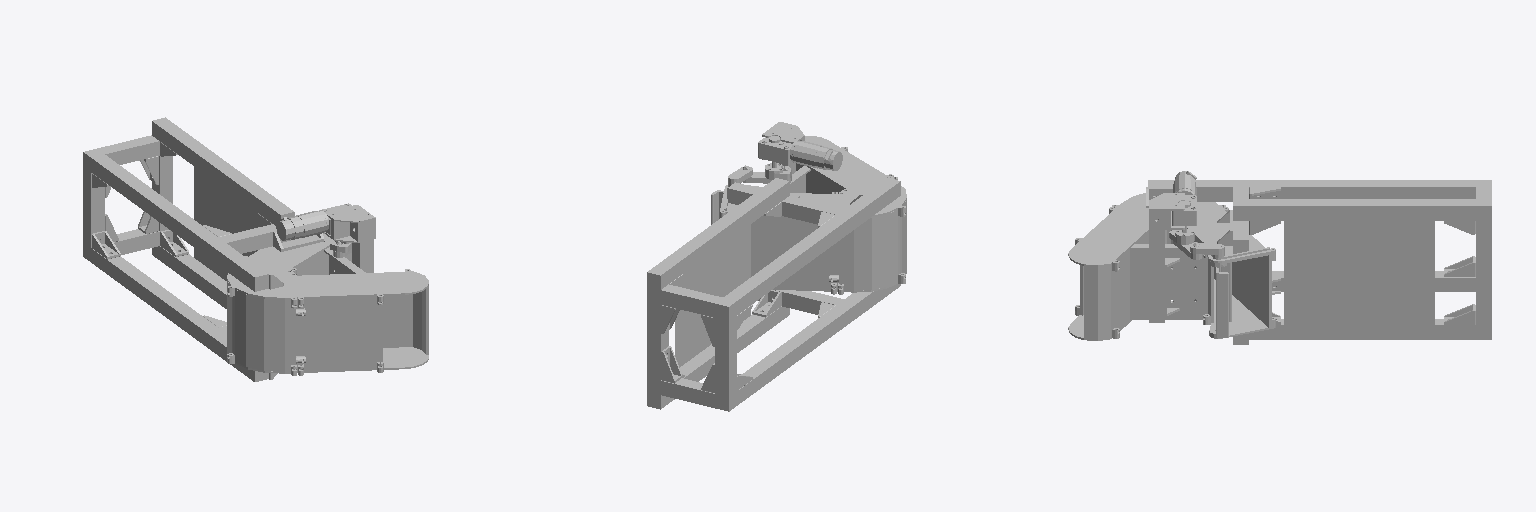
File: Drink Dispenser A0 Assembly.obj
3 renders of one model, left to right at view 1: azimuth 30°, elevation 25°; view 2: azimuth 150°, elevation 25°; view 3: azimuth 270°, elevation 25°, orthographic.
Visible parts, largest first — view 1: mesh502, mesh49, mesh46, mesh234, mesh44, mesh31, mesh807, mesh32, mesh839, mesh55, mesh58, mesh165 (+10 smaller); view 2: mesh49, mesh44, mesh46, mesh407, mesh240, mesh31, mesh32, mesh60, mesh56, mesh807, mesh37, mesh14 (+7 smaller); view 3: mesh43, mesh50, mesh577, mesh30, mesh807, mesh46, mesh842, mesh371, mesh32, mesh566, mesh862, mesh59 (+6 smaller).
Boxes of the visible parts, x1=… form: mesh502: x1=298, y1=296, x2=382, y2=370; mesh49: x1=83, y1=152, x2=254, y2=381; mesh46: x1=84, y1=149, x2=267, y2=346; mesh234: x1=233, y1=290, x2=284, y2=371; mesh44: x1=194, y1=167, x2=263, y2=280; mesh31: x1=152, y1=121, x2=280, y2=308; mesh807: x1=297, y1=269, x2=428, y2=299; mesh32: x1=153, y1=117, x2=293, y2=294; mesh839: x1=383, y1=294, x2=412, y2=347; mesh55: x1=105, y1=141, x2=168, y2=254; mesh58: x1=91, y1=156, x2=172, y2=247; mesh165: x1=245, y1=234, x2=332, y2=270; mesh49: x1=729, y1=181, x2=900, y2=411; mesh44: x1=675, y1=224, x2=750, y2=367; mesh46: x1=715, y1=178, x2=899, y2=389; mesh407: x1=751, y1=215, x2=836, y2=289; mesh240: x1=854, y1=210, x2=899, y2=290; mesh31: x1=661, y1=181, x2=789, y2=408; mesh32: x1=648, y1=178, x2=788, y2=377; mesh60: x1=647, y1=301, x2=728, y2=396; mesh56: x1=647, y1=287, x2=714, y2=407; mesh807: x1=805, y1=136, x2=893, y2=188; mesh37: x1=727, y1=188, x2=834, y2=314; mesh14: x1=661, y1=212, x2=834, y2=382; mesh43: x1=1284, y1=206, x2=1434, y2=339; mesh50: x1=1153, y1=187, x2=1475, y2=291; mesh577: x1=1130, y1=248, x2=1207, y2=319; mesh30: x1=1233, y1=206, x2=1491, y2=339; mesh807: x1=1068, y1=207, x2=1148, y2=264; mesh46: x1=1148, y1=180, x2=1491, y2=277; mesh842: x1=1084, y1=265, x2=1110, y2=339; mesh371: x1=1232, y1=255, x2=1268, y2=327; mesh32: x1=1233, y1=199, x2=1491, y2=324; mesh566: x1=1149, y1=218, x2=1164, y2=322; mesh862: x1=1111, y1=231, x2=1148, y2=337; mesh59: x1=1476, y1=235, x2=1491, y2=310.
Size of the model in its own units: 0.304 by 0.268 by 0.6721.